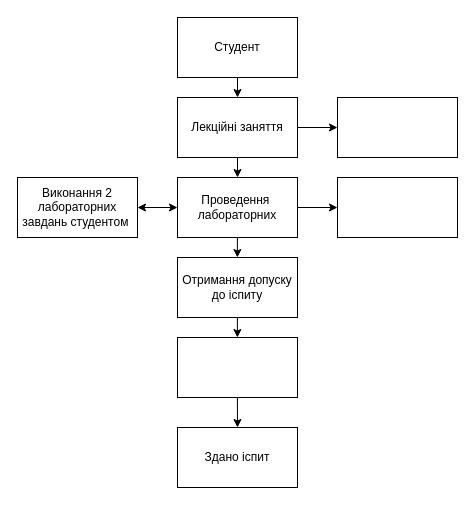
Some shapes in this 475 by 505 pixel diagram are drawn without their labels. Here are the shapes that lost their labels. From the top down, the centre of each, then its label:
At point 397,127: "Підготовка до опитування матеріалу".
At point 397,207: "Довиконання 5 лабораторних робіт".
At point 237,367: "Підготовка до іспиту".
